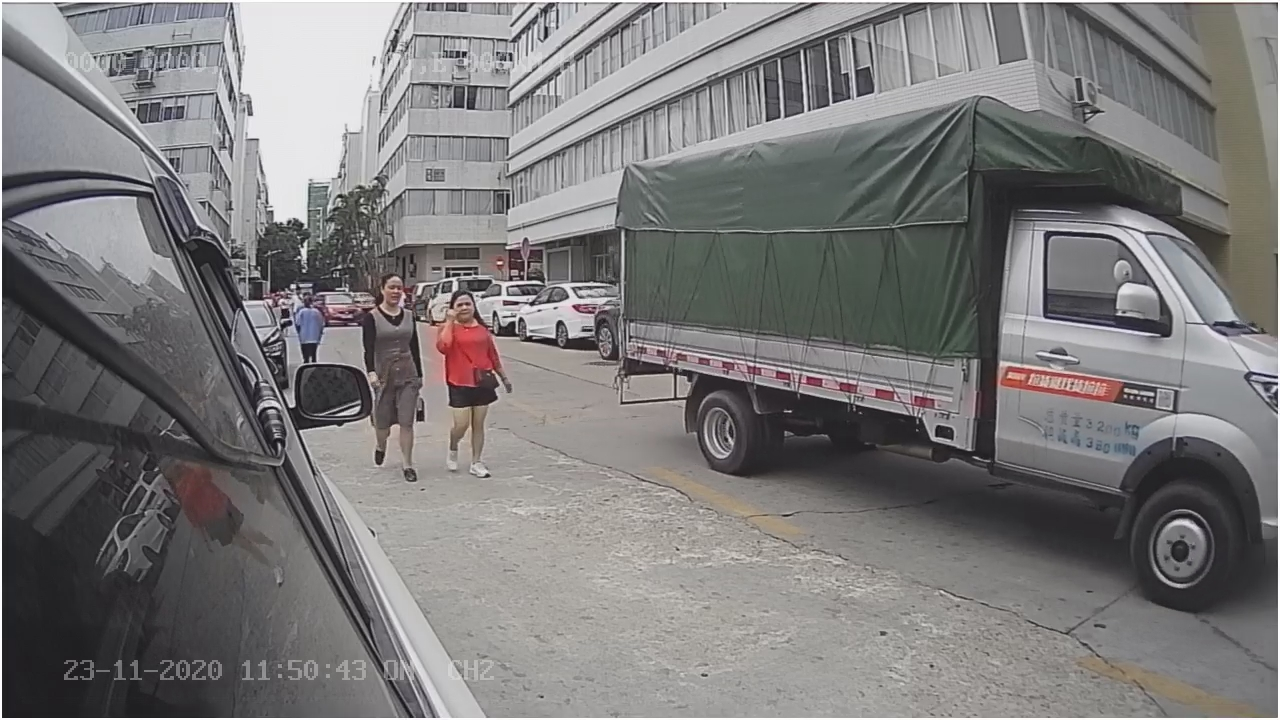person: (436, 283, 520, 476), (358, 272, 427, 481)
